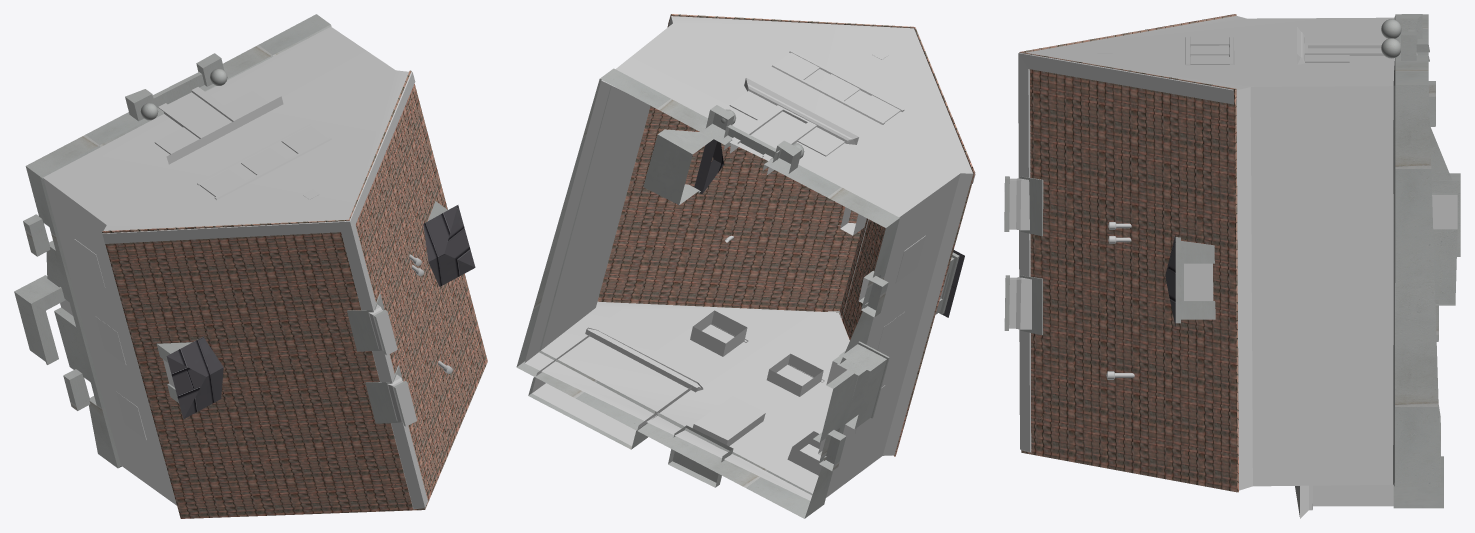
The model's file is Wismari_11.obj.
The picture shows the model from 3 angles, left to right: view 1: azimuth 30°, elevation 25°; view 2: azimuth 150°, elevation 25°; view 3: azimuth 270°, elevation 25°; orthographic projection. The views are drawn at different scales.
Parts seen in each view (by area): view 1: Wismari_11; view 2: Wismari_11; view 3: Wismari_11.
Boxes of the visible parts, x1,y1,x2,y2 form: Wismari_11: (14,14,487,518); Wismari_11: (516,14,975,518); Wismari_11: (1004,14,1460,518).
Size of the model in its own units: 13.73 by 13.35 by 12.12.
